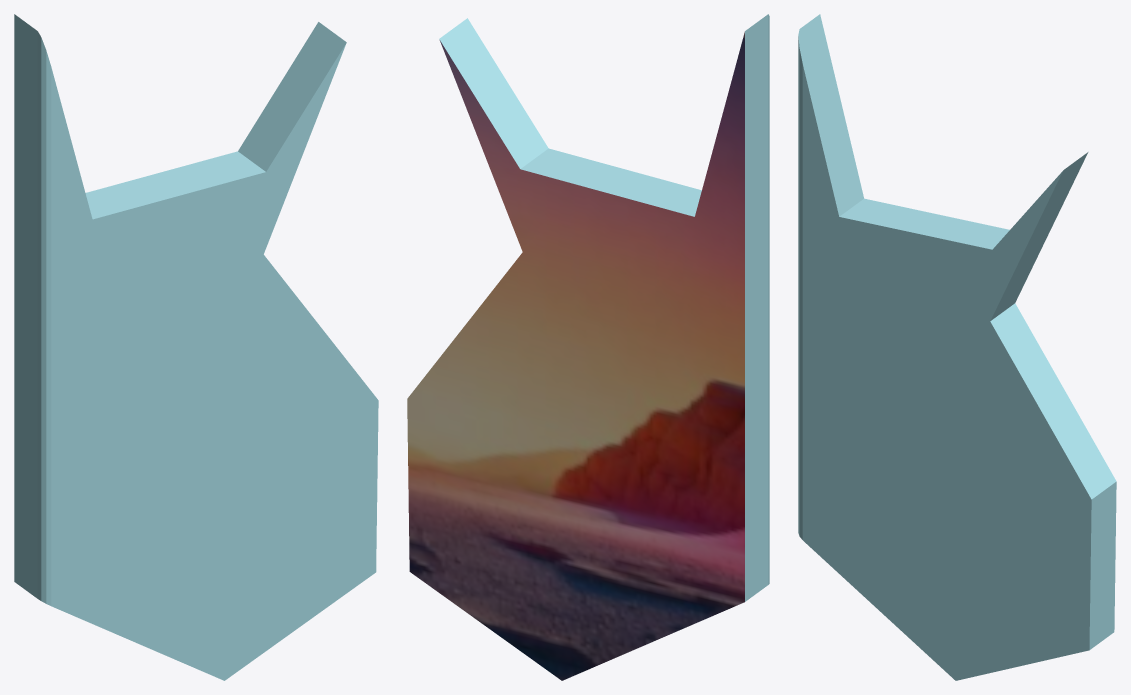
The model's file is monde6.glb.
3 views of the same model, side by side, from view 1: azimuth 30°, elevation 25°; view 2: azimuth 150°, elevation 25°; view 3: azimuth 330°, elevation 25° (orthographic). The views are drawn at different scales.
Visible parts, largest first — view 1: Plane.007; view 2: Plane.007; view 3: Plane.007.
Boxes of the visible parts, bbox=[...] form: Plane.007: bbox=[14, 14, 378, 680]; Plane.007: bbox=[407, 14, 769, 680]; Plane.007: bbox=[798, 14, 1116, 680].
Bounding box in the file's own units: 34.25 × 67.29 × 5.
2 materials, 1 textured.
